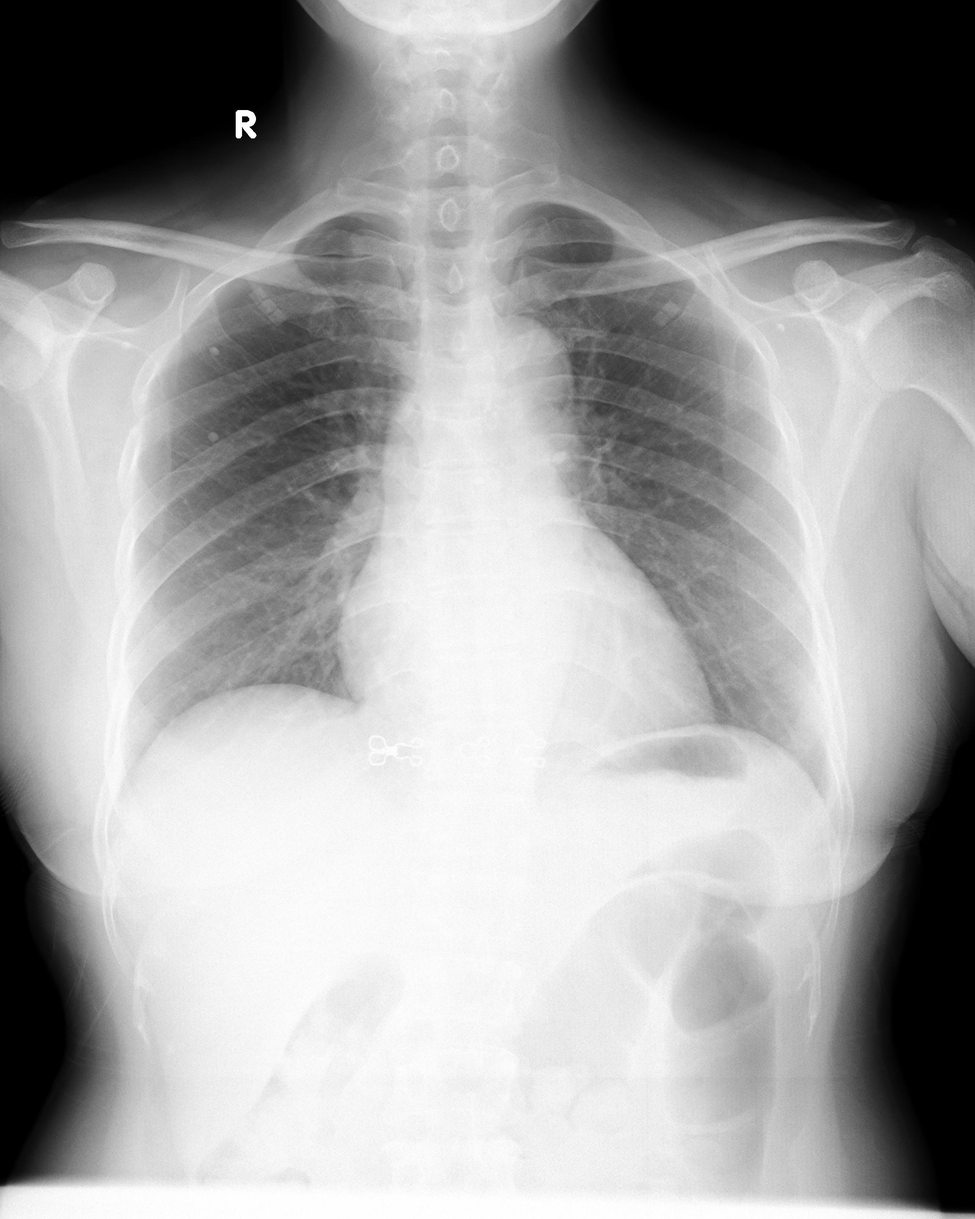Aortic enlargement: (465, 309, 575, 429)
